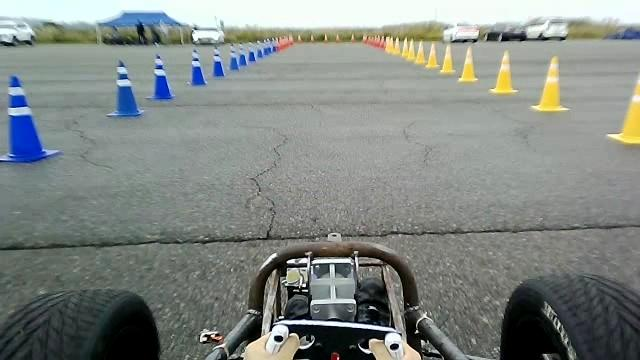blue cone: (0, 74, 60, 163), (106, 59, 143, 117), (145, 53, 174, 100), (187, 47, 207, 86), (211, 46, 225, 77), (228, 43, 239, 70), (237, 43, 248, 65), (247, 41, 256, 62)
yellow cone: (530, 55, 569, 112), (488, 49, 518, 94), (457, 45, 478, 82), (439, 43, 455, 74), (424, 41, 439, 68), (414, 38, 426, 64), (405, 37, 415, 62), (400, 36, 408, 58), (392, 36, 401, 55)
